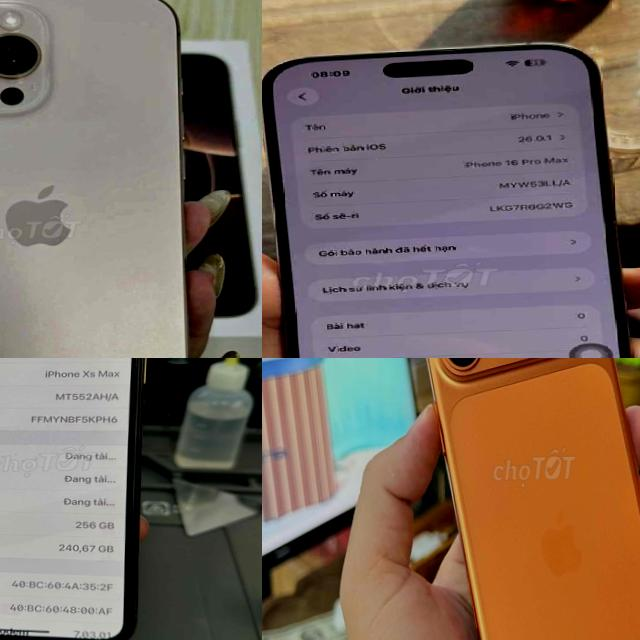scratch: (418, 358, 640, 640)
